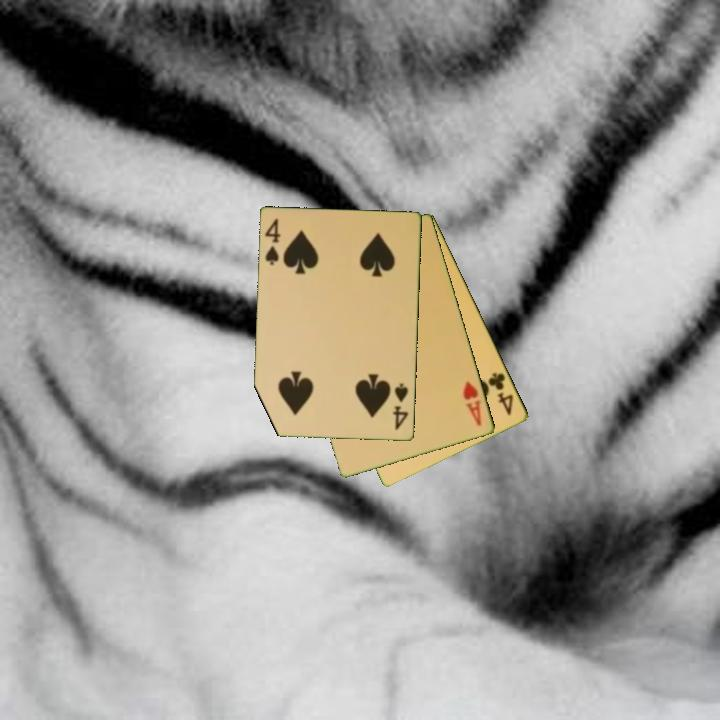4c: (485, 369, 517, 419)
4s: (262, 215, 284, 268), (390, 380, 411, 433)
Ah: (460, 378, 485, 429)
